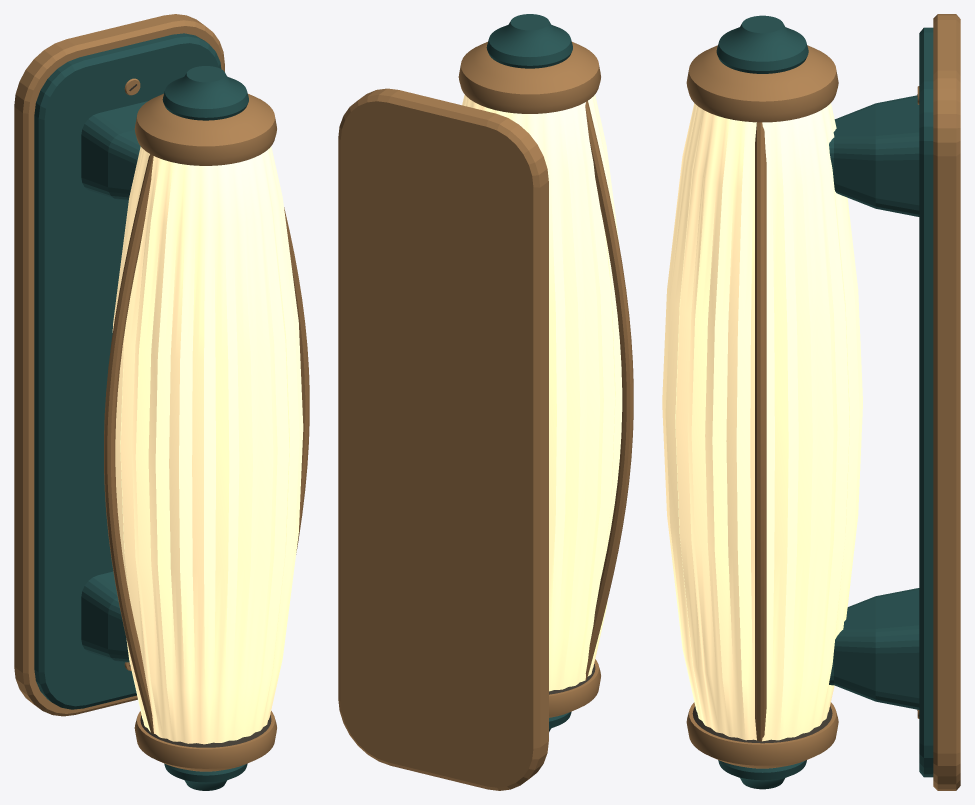
The picture shows the model from 3 angles, left to right: view 1: azimuth 30°, elevation 25°; view 2: azimuth 150°, elevation 25°; view 3: azimuth 270°, elevation 25°; orthographic projection. The views are drawn at different scales.
Visible parts, largest first — view 1: Fixture; view 2: Fixture; view 3: Fixture.
Part boxes in pixels (x1,y1,x2,y2): Fixture: (14, 14, 309, 790); Fixture: (338, 14, 633, 790); Fixture: (662, 14, 960, 790).
Bounding box in the file's own units: 0.1093 × 0.362 × 0.1296.
